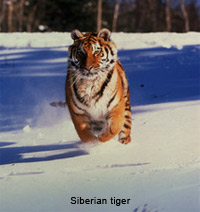Tigre: (39, 25, 156, 159)
